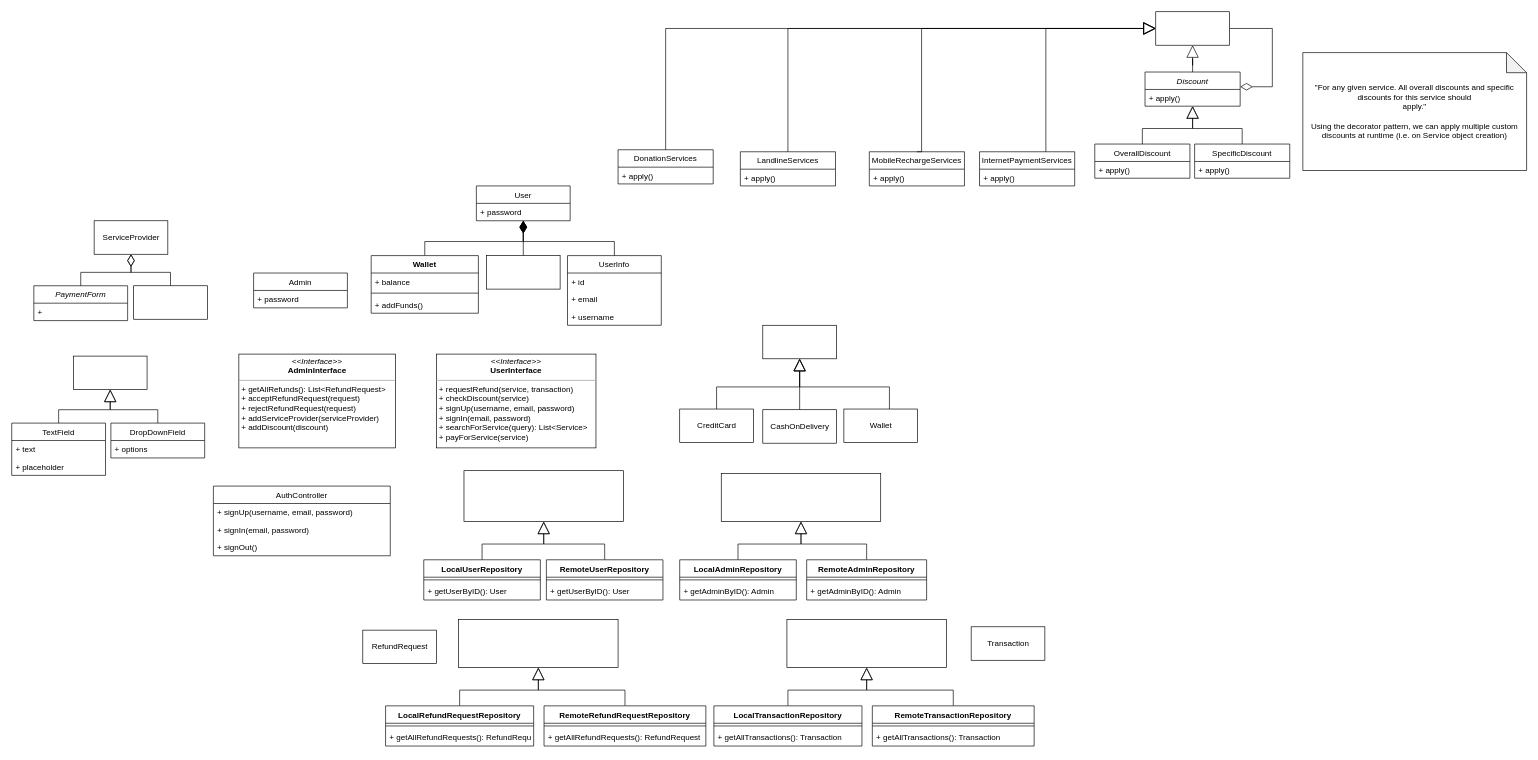
The diagram is 1538 pixels wide and 760 high, and some of its shapes have lost their labels. Here are the shapes that lost their labels. From the top down, the centre of each, then its label:
At point 1192,28: "«interface» Service".
At point 523,272: "CreditCardInfo".
At point 170,302: "«interface» FormHandler".
At point 799,342: "«interface» PaymentMethod".
At point 110,372: "«interface» FormField".
At point 543,496: "<<Interface>> UserRepository + getUserByID(): User".
At point 801,497: "<<Interface>> AdminRepository + getAdminByID(): Admin".
At point 538,643: "<<Interface>> RefundRequestRepository + getAllRefundRequests(): RefundRequest".
At point 866,643: "<<Interface>> TransactionRepository + getAllTransactions(): Transaction".
